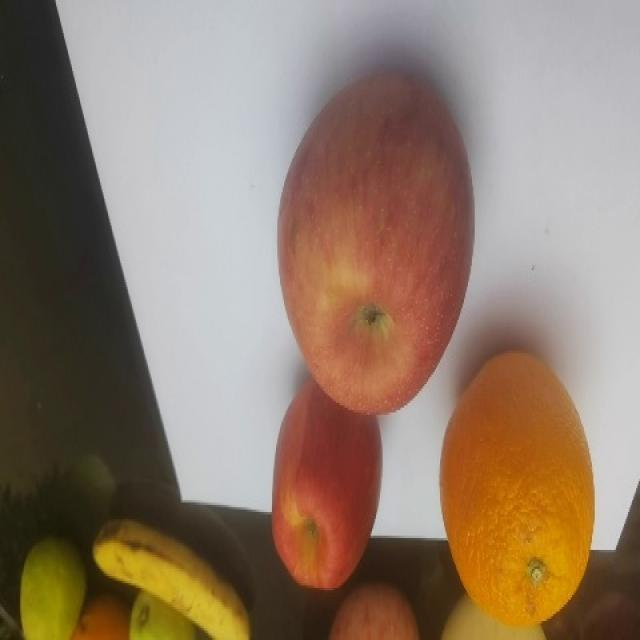Apple: (277, 69, 481, 418), (269, 368, 383, 591), (328, 589, 425, 640)
Banana: (92, 514, 256, 640)
Orange: (441, 351, 594, 622)
